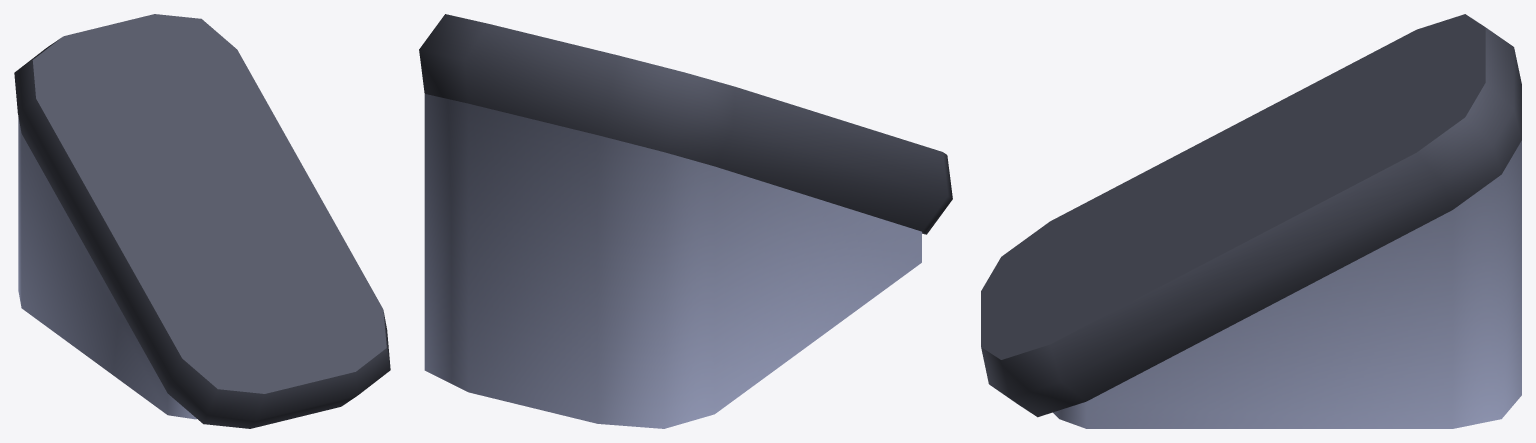
The model's file is block-snow-large-slope-steep-narrow.glb.
3 renders of one model, left to right at view 1: azimuth 30°, elevation 25°; view 2: azimuth 150°, elevation 25°; view 3: azimuth 270°, elevation 25°, orthographic. The views are drawn at different scales.
Parts seen in each view (by area): view 1: block-snow-large-slope-steep-narrow; view 2: block-snow-large-slope-steep-narrow; view 3: block-snow-large-slope-steep-narrow.
Part boxes in pixels (x1=…): block-snow-large-slope-steep-narrow: x1=14, y1=14, x2=390, y2=428; block-snow-large-slope-steep-narrow: x1=419, y1=14, x2=952, y2=428; block-snow-large-slope-steep-narrow: x1=981, y1=14, x2=1521, y2=428.
Size of the model in its own units: 1.08 by 1.22 by 1.86.
